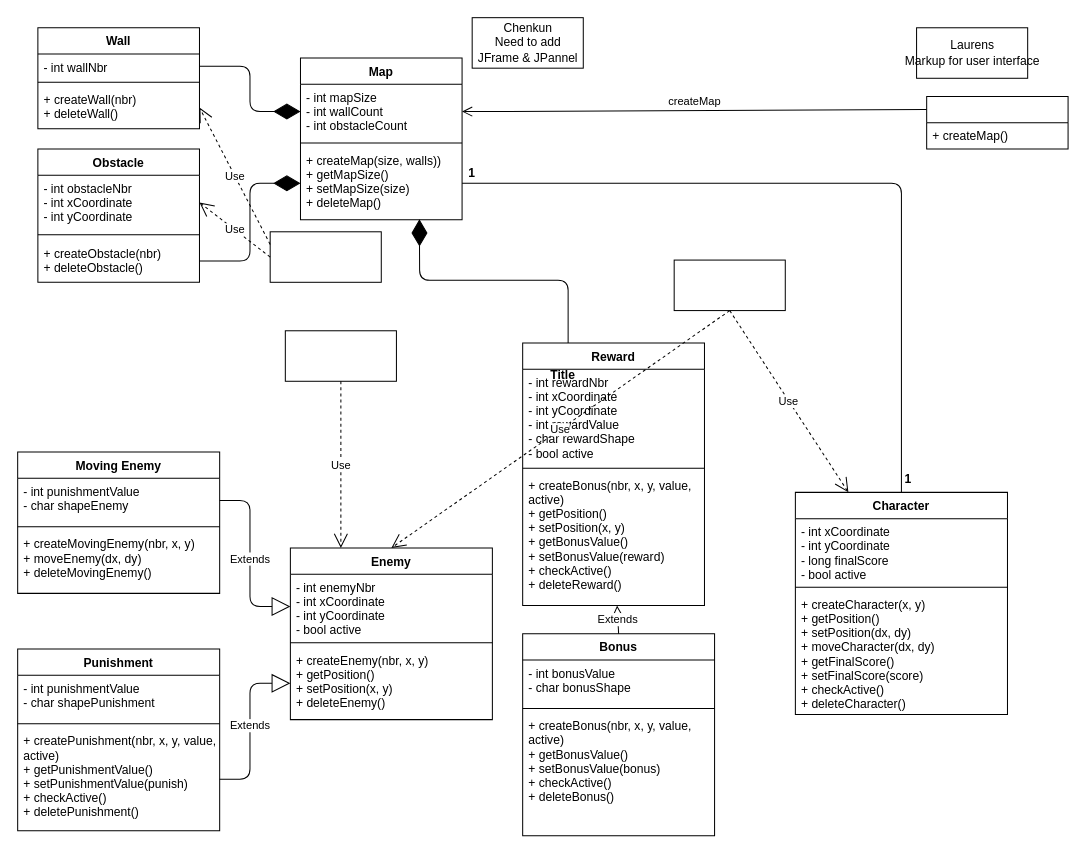
This 1086x856 diagram has some shape labels left out. Here are the shapes that lost their labels. From the top down, the box of each, then its label:
(926, 95, 1068, 149): Game
(269, 231, 381, 282): Hong Need to add Boundary (Wall & Obstacles)
(673, 259, 785, 311): Hong Need to add Entity (Enemy & Character)
(284, 330, 396, 381): Shen Need to Add Enemy Interface
